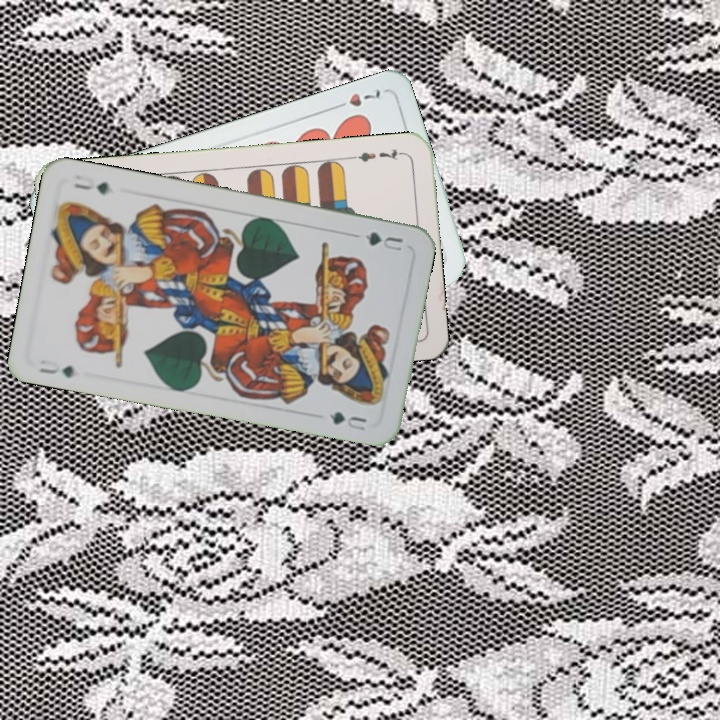E7: (348, 144, 407, 165)
GU: (361, 227, 405, 254), (34, 355, 77, 381)
H7: (329, 85, 383, 112)
